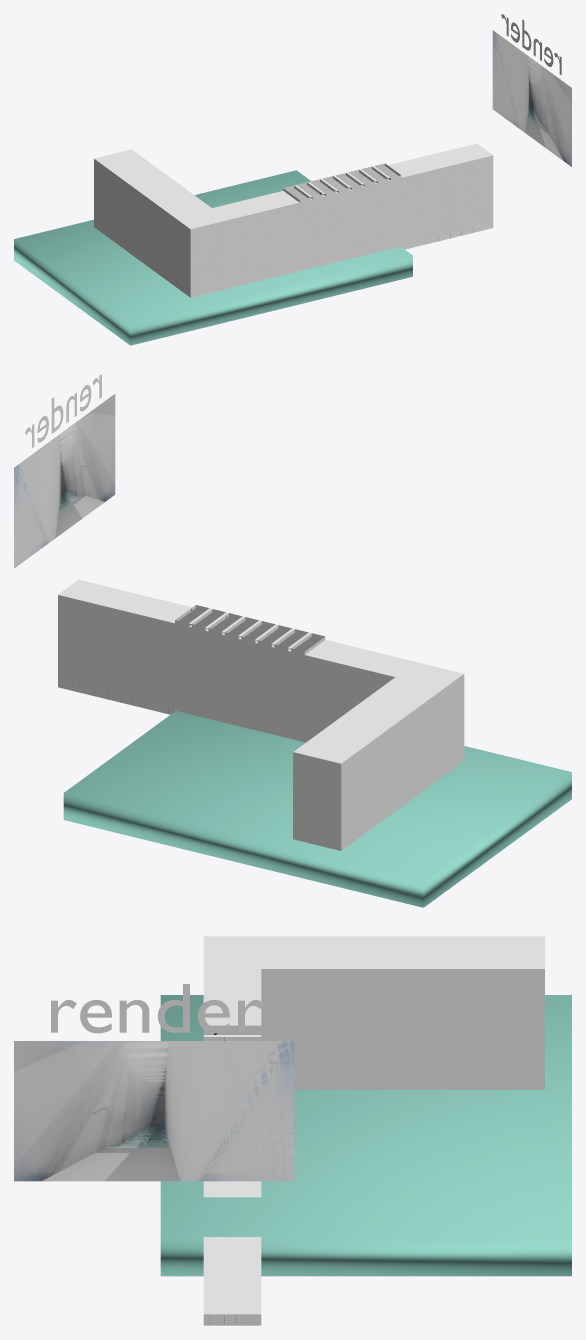
3 renders of one model, top to bottom at view 1: azimuth 30°, elevation 25°; view 2: azimuth 150°, elevation 25°; view 3: azimuth 270°, elevation 25°, orthographic. The views are drawn at different scales.
Visible parts, largest first — view 1: Object_10, warter_5, p_7, Object_16; view 2: Object_10, warter_5, p_7, Object_16; view 3: warter_5, Object_10, p_7, Object_16.
Part boxes in pixels (x1,y1,x2,y2): Object_10: (94,143,493,297); warter_5: (14,170,412,345); p_7: (492,30,571,166); Object_16: (501,14,561,75); Object_10: (58,579,464,850); warter_5: (63,711,571,907); p_7: (14,394,115,568); Object_16: (25,374,101,447); warter_5: (160,995,571,1276); Object_10: (203,936,544,1325); p_7: (14,1041,294,1181); Object_16: (51,984,263,1033).
Size of what is drawn, in the model's own units: 28.5 by 15.17 by 19.49.
5 materials, 3 textured.
